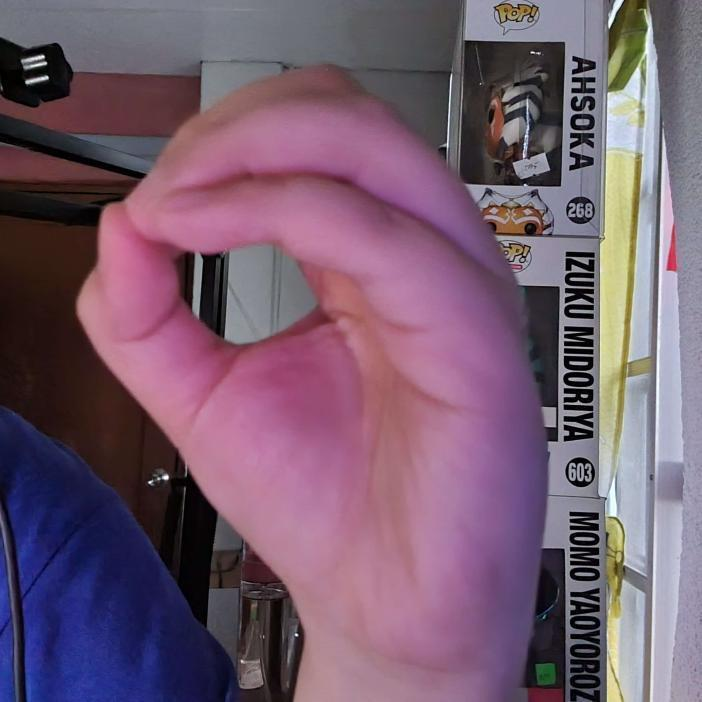o: (75, 62, 550, 676)
